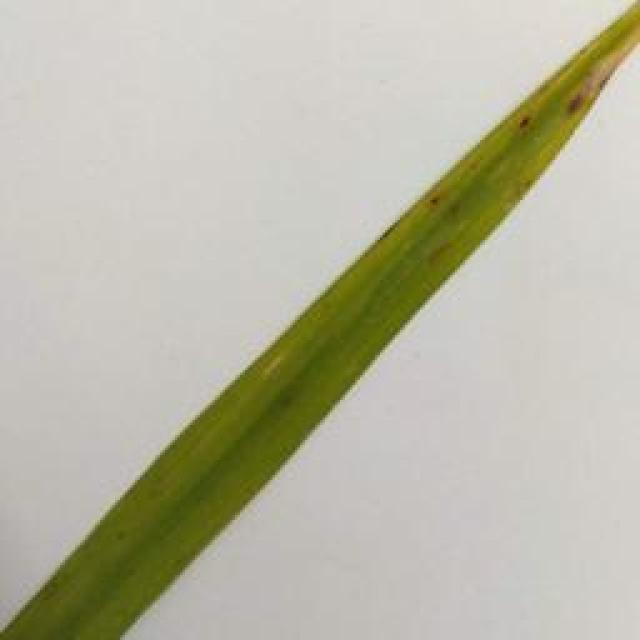Bacterial_Blight: (587, 21, 640, 141)
Brown_Spot: (401, 183, 454, 214), (556, 80, 588, 118), (503, 96, 534, 133)
